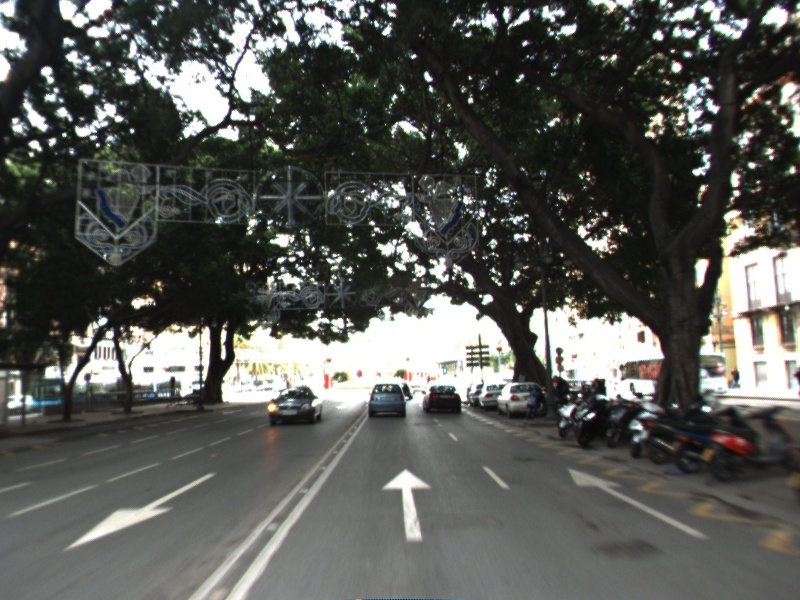STRAIGHT: (563, 464, 713, 543), (378, 467, 434, 545)
